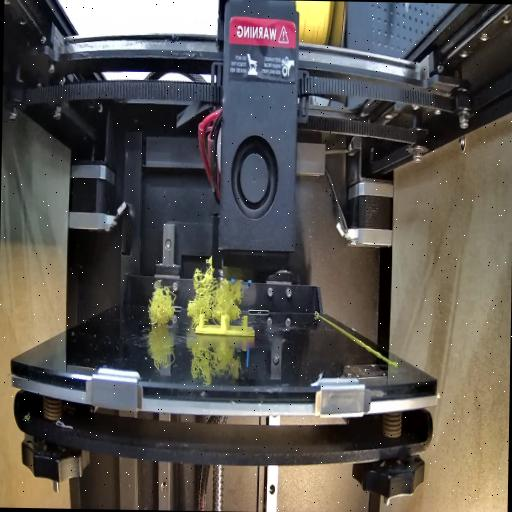spaghetti: (192, 265, 242, 319), (146, 280, 179, 329)
